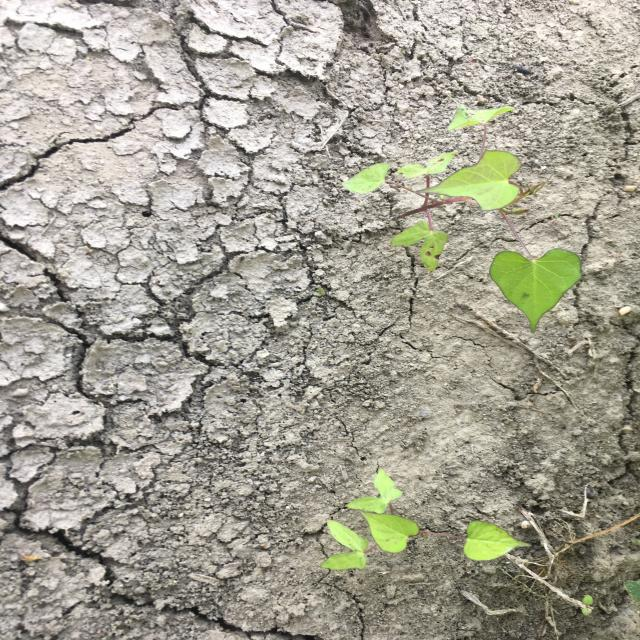MorningGlory: (338, 104, 586, 336), (319, 468, 533, 573)
